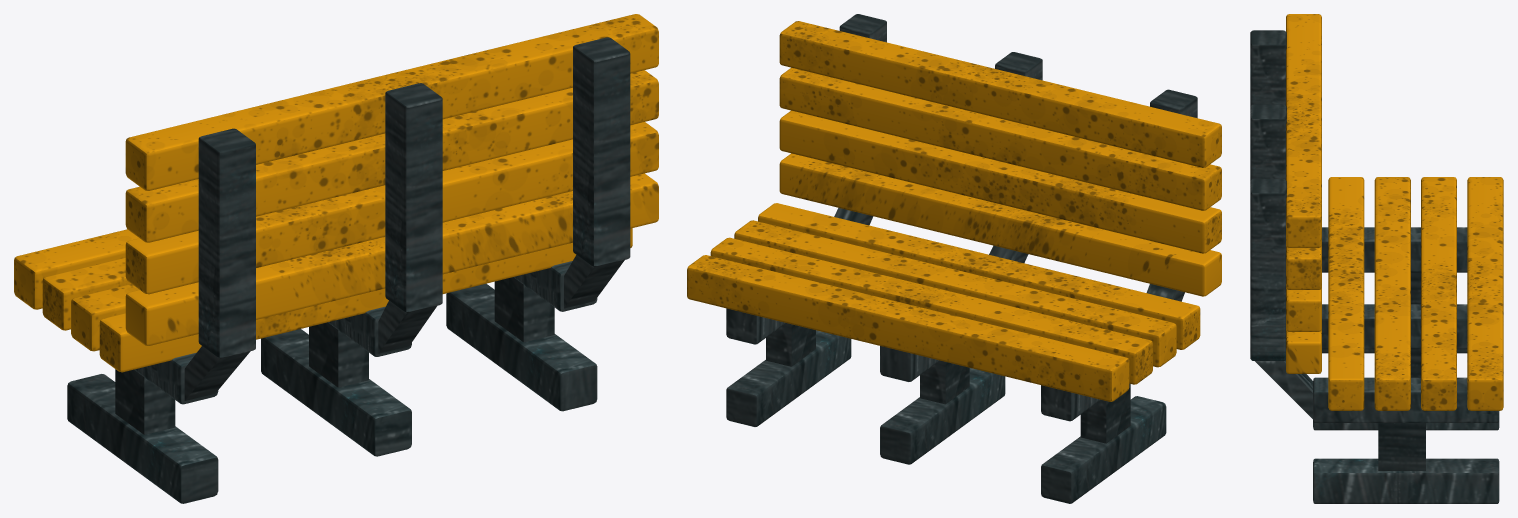
File: chair.fbx
3 renders of one model, left to right at view 1: azimuth 30°, elevation 25°; view 2: azimuth 150°, elevation 25°; view 3: azimuth 270°, elevation 25°, orthographic. The views are drawn at different scales.
Visible parts, largest first — view 1: polySurface2, polySurface3, polySurface4, polySurface5, polySurface6, polySurface8, polySurface7, polySurface11, polySurface10, polySurface9, polySurface1; view 2: polySurface5, polySurface10, polySurface8, polySurface6, polySurface7, polySurface11, polySurface9, polySurface1, polySurface2, polySurface4, polySurface3; view 3: polySurface3, polySurface1, polySurface10, polySurface11, polySurface5, polySurface9, polySurface4, polySurface2, polySurface6, polySurface8, polySurface7.
Part boxes in pixels (x1=…): polySurface2: x1=67, y1=128, x2=255, y2=503; polySurface3: x1=446, y1=37, x2=630, y2=411; polySurface4: x1=261, y1=83, x2=442, y2=456; polySurface5: x1=125, y1=14, x2=658, y2=190; polySurface6: x1=125, y1=70, x2=658, y2=242; polySurface8: x1=125, y1=173, x2=658, y2=345; polySurface7: x1=125, y1=122, x2=658, y2=294; polySurface11: x1=99, y1=228, x2=632, y2=372; polySurface10: x1=14, y1=229, x2=139, y2=309; polySurface9: x1=42, y1=257, x2=131, y2=330; polySurface1: x1=71, y1=284, x2=139, y2=351; polySurface5: x1=779, y1=21, x2=1221, y2=167; polySurface10: x1=687, y1=255, x2=1129, y2=401; polySurface8: x1=779, y1=153, x2=1221, y2=296; polySurface6: x1=779, y1=67, x2=1221, y2=210; polySurface7: x1=779, y1=110, x2=1221, y2=253; polySurface11: x1=758, y1=203, x2=1200, y2=349; polySurface9: x1=710, y1=237, x2=1152, y2=384; polySurface1: x1=734, y1=220, x2=1176, y2=367; polySurface2: x1=1041, y1=89, x2=1197, y2=503; polySurface4: x1=880, y1=52, x2=1042, y2=464; polySurface3: x1=726, y1=14, x2=886, y2=426; polySurface3: x1=1250, y1=179, x2=1499, y2=503; polySurface1: x1=1374, y1=177, x2=1410, y2=410; polySurface10: x1=1467, y1=177, x2=1503, y2=410; polySurface11: x1=1328, y1=177, x2=1364, y2=410; polySurface5: x1=1286, y1=14, x2=1321, y2=247; polySurface9: x1=1421, y1=177, x2=1456, y2=410; polySurface4: x1=1250, y1=104, x2=1499, y2=430; polySurface2: x1=1250, y1=30, x2=1467, y2=353; polySurface6: x1=1286, y1=245, x2=1321, y2=289; polySurface8: x1=1286, y1=329, x2=1321, y2=373; polySurface7: x1=1286, y1=287, x2=1321, y2=331.
Size of the model in its own units: 13.34 by 9.45 by 6.99.
Materials: 2 (2 with a texture image).
